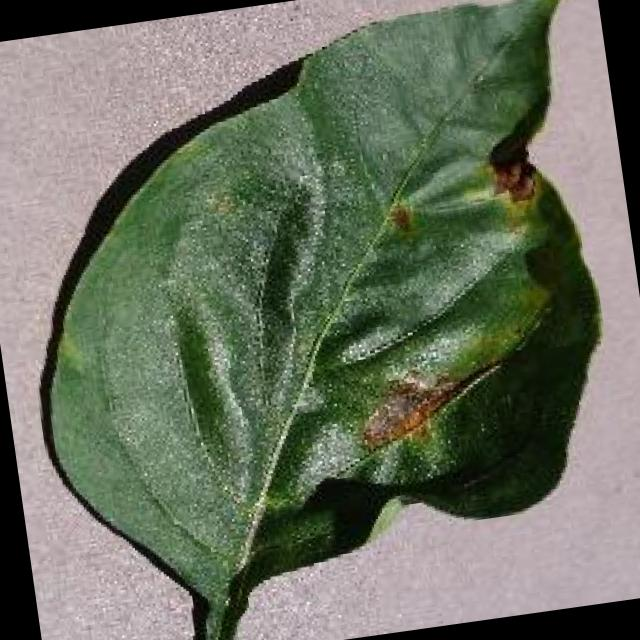Chilli_Bacterial_Spot: (0, 0, 640, 640), (315, 144, 583, 462), (348, 364, 468, 458), (486, 151, 544, 210), (516, 238, 568, 299), (379, 196, 422, 240), (201, 182, 243, 225)
